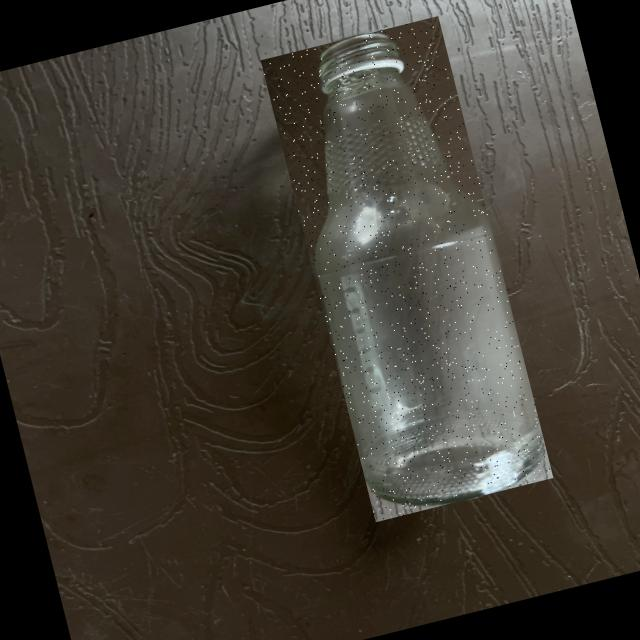Glass_Bottle: (315, 34, 543, 504)
